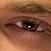eye: (22, 22, 37, 31)
